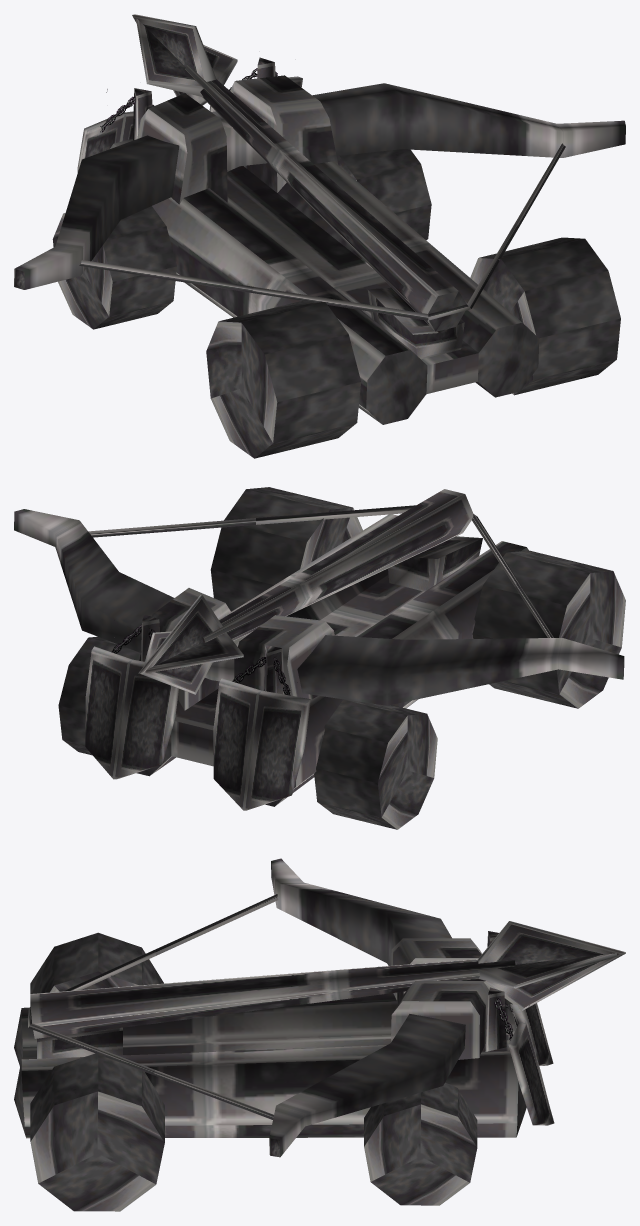
File: trolla.dae
The picture shows the model from 3 angles, top to bottom: view 1: azimuth 30°, elevation 25°; view 2: azimuth 150°, elevation 25°; view 3: azimuth 270°, elevation 25°; orthographic projection. The views are drawn at different scales.
Visible parts, largest first — view 1: world_azeroth_elwynn_passivedoodads_ballista_ballista_m2_Geo; view 2: world_azeroth_elwynn_passivedoodads_ballista_ballista_m2_Geo; view 3: world_azeroth_elwynn_passivedoodads_ballista_ballista_m2_Geo.
Boxes of the visible parts, <box> form: world_azeroth_elwynn_passivedoodads_ballista_ballista_m2_Geo: <box>14,14,625,458</box>; world_azeroth_elwynn_passivedoodads_ballista_ballista_m2_Geo: <box>14,487,625,829</box>; world_azeroth_elwynn_passivedoodads_ballista_ballista_m2_Geo: <box>14,858,625,1211</box>.
Size of the model in its own units: 13.41 by 12.33 by 4.68.
Materials: 2 (2 with a texture image).
